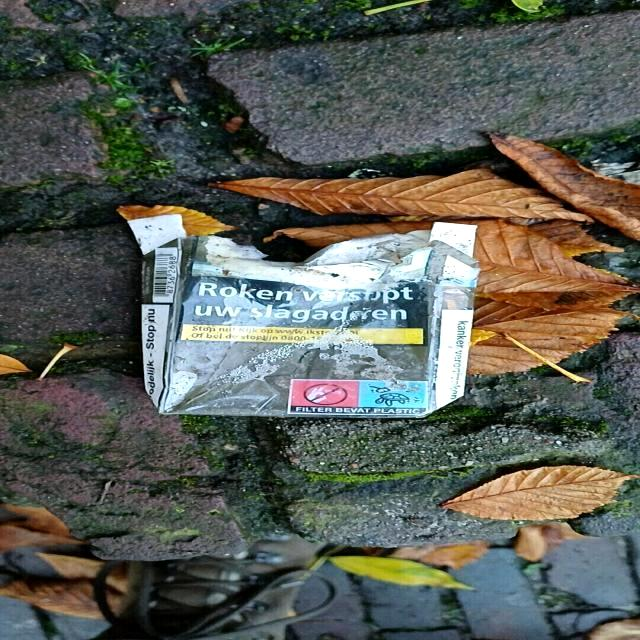Paper: (122, 212, 482, 420)
